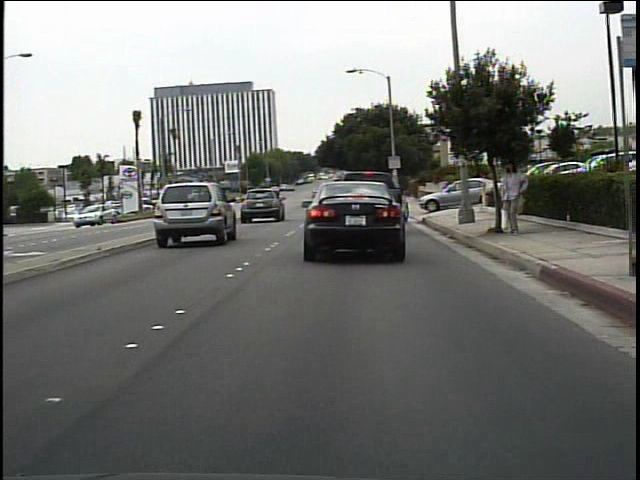person: (494, 157, 531, 239)
